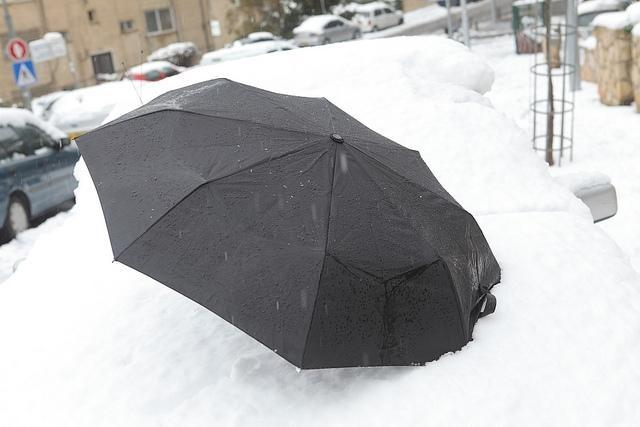car: (0, 115, 82, 245), (43, 82, 159, 130), (200, 41, 301, 66), (292, 13, 363, 46), (117, 60, 188, 83), (352, 1, 403, 33), (147, 42, 199, 64), (234, 30, 286, 48)
